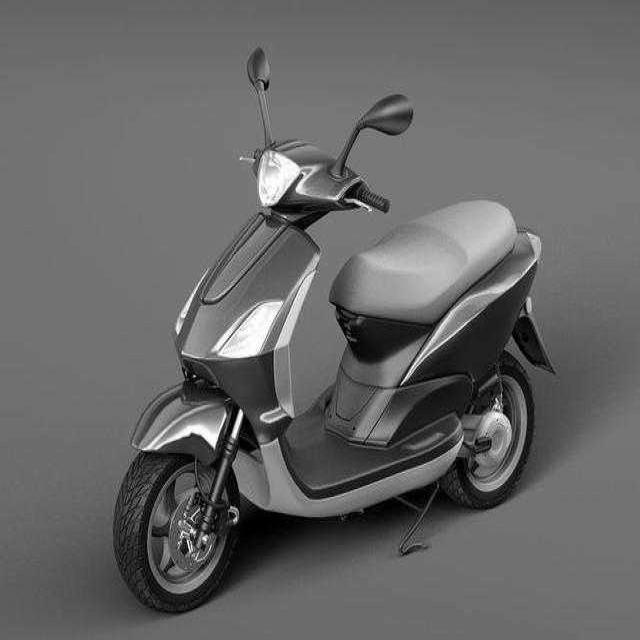Motorcycle: (115, 49, 553, 612)
